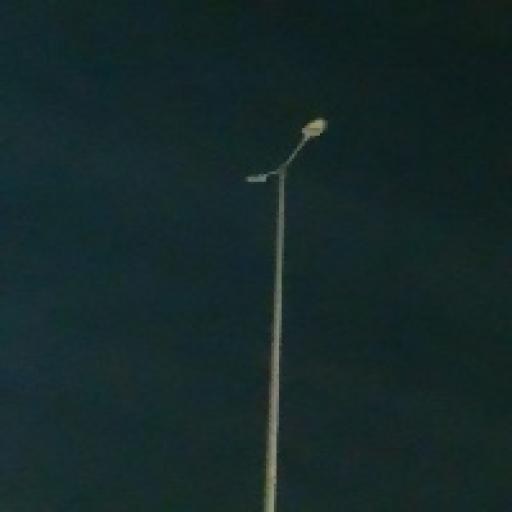Not Working: (295, 115, 332, 144), (240, 168, 267, 189)
